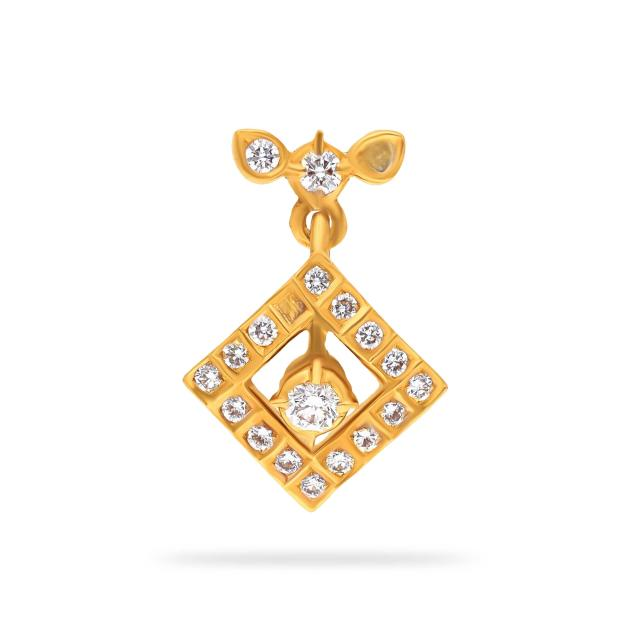missing gem: (272, 286, 307, 325), (356, 140, 396, 173)
